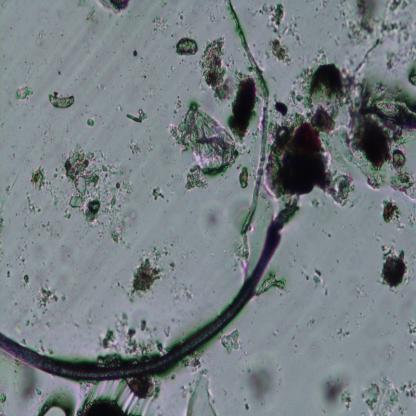Air bubble: (166, 108, 240, 189)
Background material: (264, 119, 350, 207), (353, 75, 416, 175), (61, 148, 125, 227), (346, 0, 416, 58), (96, 311, 164, 362), (80, 379, 158, 416), (235, 347, 283, 403), (300, 61, 353, 105), (357, 376, 416, 414), (202, 38, 231, 104), (227, 78, 257, 139), (182, 372, 220, 416), (317, 368, 355, 412), (378, 245, 409, 292), (8, 359, 44, 399), (129, 257, 164, 297), (26, 162, 56, 206), (266, 37, 296, 68), (256, 269, 290, 296), (108, 224, 138, 254), (31, 284, 59, 316), (200, 206, 232, 233), (46, 88, 78, 112), (263, 3, 287, 34), (36, 397, 74, 416), (381, 199, 405, 228), (6, 79, 35, 103), (73, 2, 100, 27), (177, 31, 200, 58), (220, 327, 243, 354), (150, 10, 169, 40), (126, 103, 148, 128), (302, 266, 324, 290), (174, 282, 192, 310), (404, 316, 416, 354), (290, 12, 302, 43), (106, 1, 134, 14), (149, 186, 166, 204), (238, 166, 250, 190), (125, 142, 144, 156), (24, 312, 40, 328), (111, 280, 126, 296), (337, 327, 349, 344), (173, 95, 183, 113), (128, 43, 139, 59), (85, 115, 97, 129), (21, 272, 30, 288), (322, 229, 333, 238), (169, 258, 175, 272), (272, 330, 282, 338), (322, 286, 328, 298)
Cellulose filter fibre: (226, 2, 272, 252)
Microfibre: (0, 226, 283, 382)
